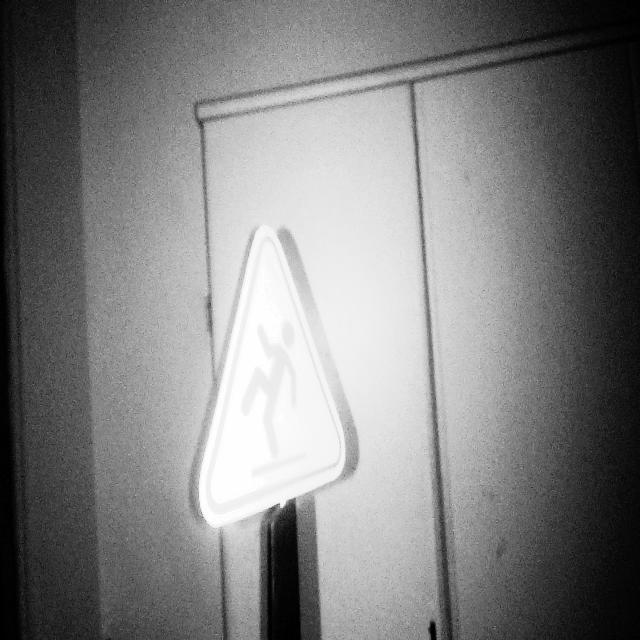Sign: (198, 222, 348, 531)
